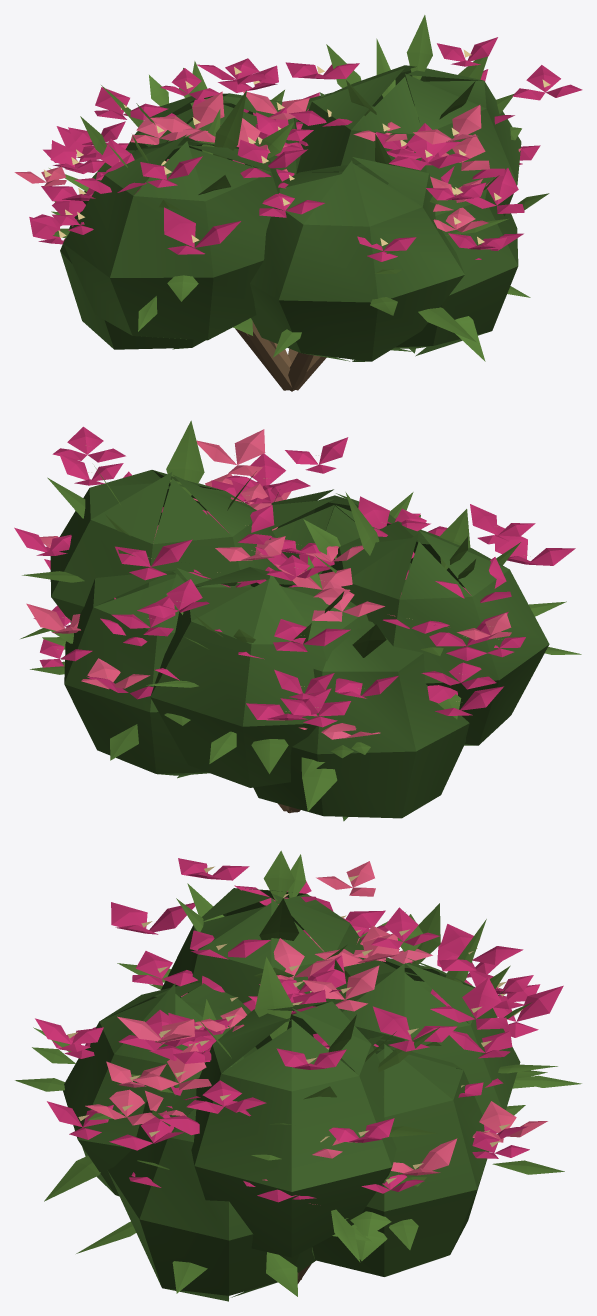
Rendered from bougainvillea.glb.
3 renders of one model, top to bottom at view 1: azimuth 30°, elevation 25°; view 2: azimuth 150°, elevation 25°; view 3: azimuth 270°, elevation 25°, orthographic. The views are drawn at different scales.
Visible parts, largest first — view 1: bougainvillea; view 2: bougainvillea; view 3: bougainvillea.
Part boxes in pixels (left/top/right/bottom): bougainvillea: left=14, top=15, right=582, bottom=391; bougainvillea: left=14, top=420, right=581, bottom=821; bougainvillea: left=15, top=850, right=581, bottom=1301.
Bounding box in the file's own units: 2.32 × 1.42 × 2.05.
